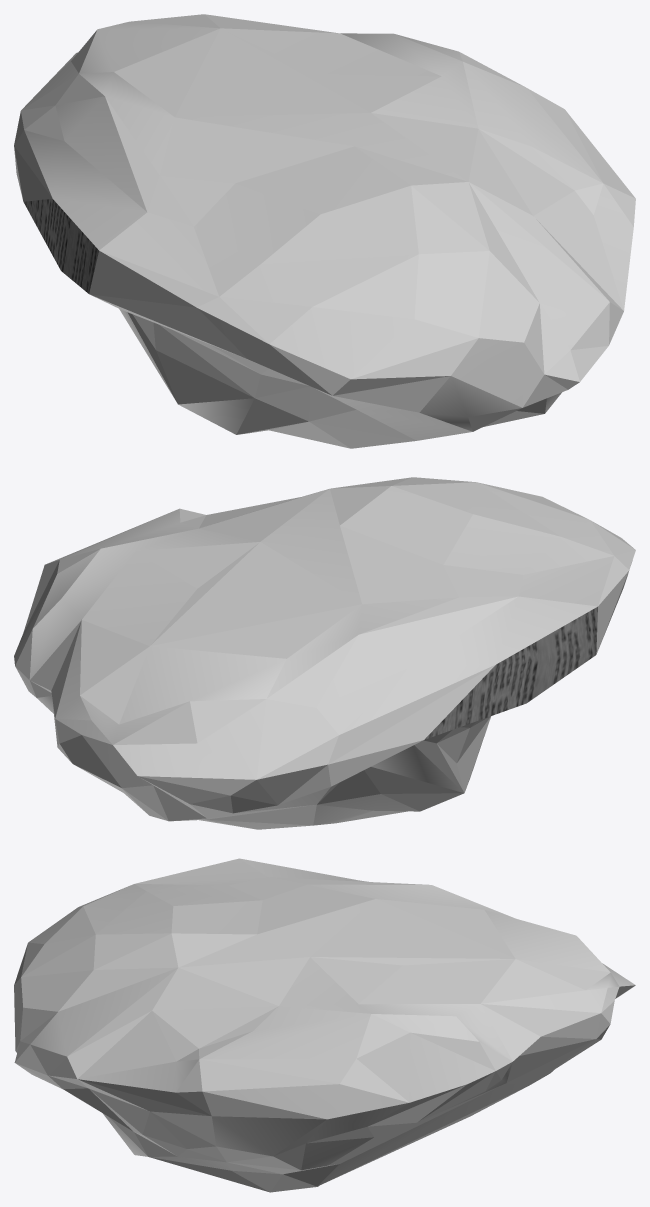
Rendered from Isle_Static_7x10_Collider.fbx.
3 views of the same model, one above another, from view 1: azimuth 30°, elevation 25°; view 2: azimuth 150°, elevation 25°; view 3: azimuth 270°, elevation 25° (orthographic). The views are drawn at different scales.
Visible parts, largest first — view 1: Isle_Static_7x10_Collider; view 2: Isle_Static_7x10_Collider; view 3: Isle_Static_7x10_Collider.
Part boxes in pixels (x1=…): Isle_Static_7x10_Collider: x1=14, y1=14, x2=635, y2=448; Isle_Static_7x10_Collider: x1=14, y1=477, x2=635, y2=829; Isle_Static_7x10_Collider: x1=14, y1=858, x2=635, y2=1192.
Size of the model in its own units: 774 by 397 by 994.
